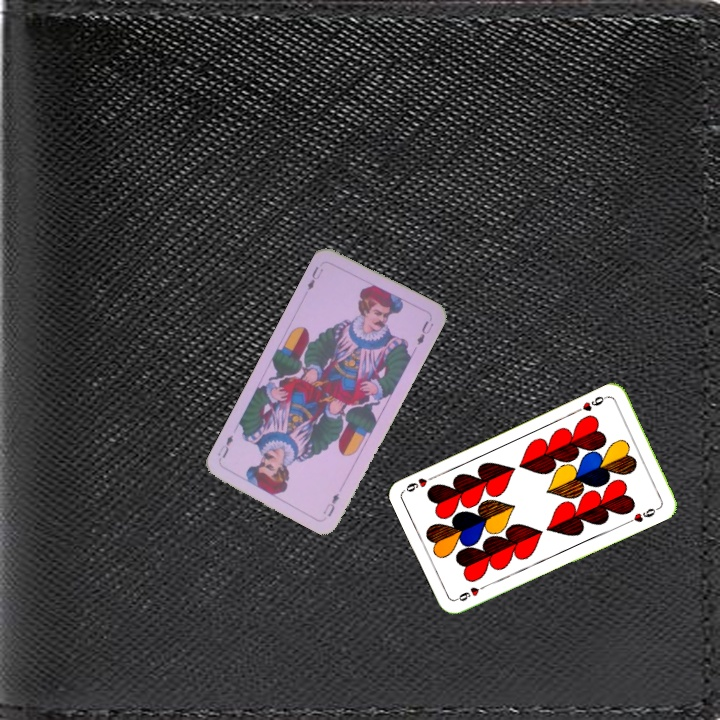EU: (303, 262, 326, 293), (319, 489, 342, 519)
H9: (452, 581, 490, 604), (578, 392, 611, 414)
